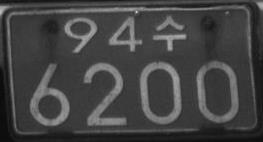0: (138, 59, 183, 126), (195, 59, 239, 124)
2: (83, 60, 127, 127)
4: (107, 16, 143, 52)
6: (29, 63, 70, 126)
9: (63, 16, 98, 53)
수: (151, 13, 186, 51)
